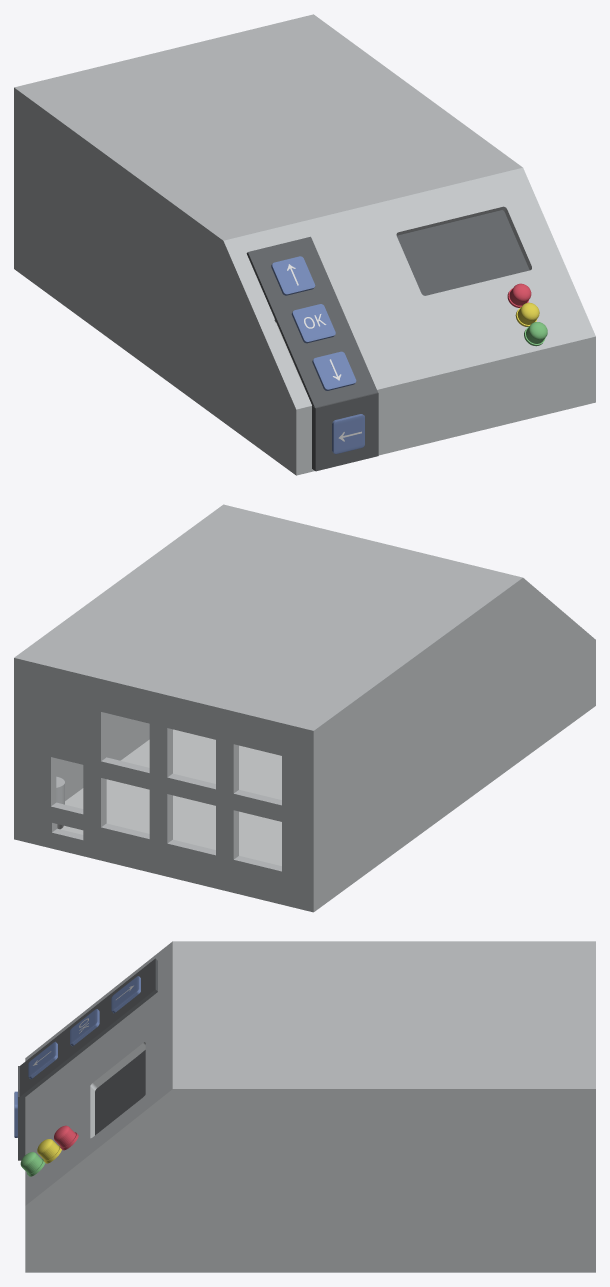
Rendered from mint.glb.
The picture shows the model from 3 angles, top to bottom: view 1: azimuth 30°, elevation 25°; view 2: azimuth 150°, elevation 25°; view 3: azimuth 270°, elevation 25°; orthographic projection.
Parts seen in each view (by area): view 1: Mesh_Mesh_head_geo.001_lambert2SG.001; view 2: Mesh_Mesh_head_geo.001_lambert2SG.001; view 3: Mesh_Mesh_head_geo.001_lambert2SG.001.
Boxes of the visible parts, x1=… form: Mesh_Mesh_head_geo.001_lambert2SG.001: x1=14, y1=14, x2=595, y2=475; Mesh_Mesh_head_geo.001_lambert2SG.001: x1=14, y1=504, x2=595, y2=912; Mesh_Mesh_head_geo.001_lambert2SG.001: x1=14, y1=941, x2=595, y2=1272.
Bounding box in the file's own units: 0.095 × 0.055 × 0.1581.
